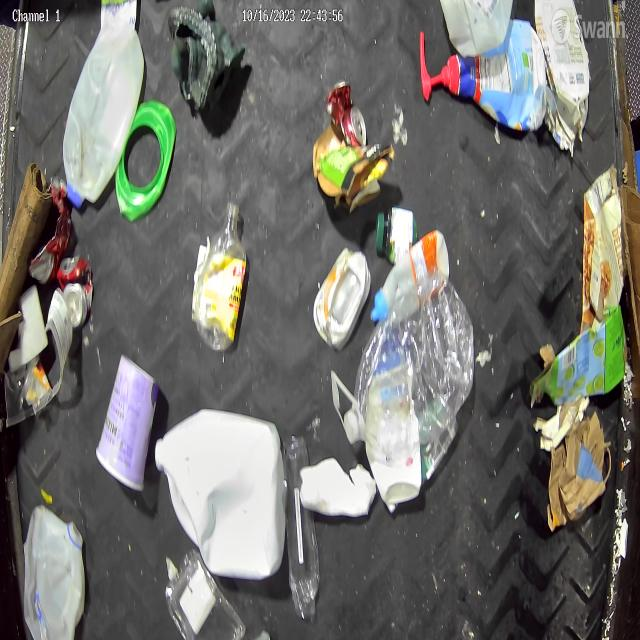can: (326, 80, 368, 150), (58, 256, 93, 328)
milk_jug: (156, 405, 285, 581), (63, 8, 146, 206), (22, 506, 86, 640)
plastic_bottle: (342, 268, 474, 446), (283, 435, 321, 618)
